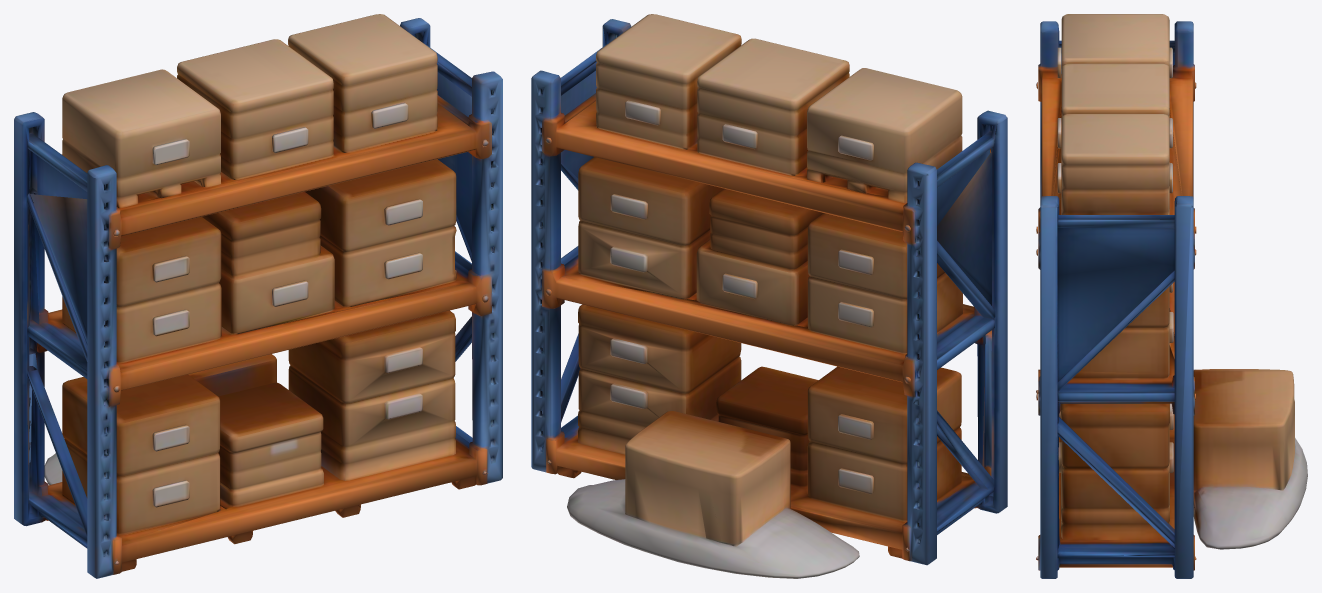
The model's file is warehouse_shelf_b7b87618_v4.glb.
3 renders of one model, left to right at view 1: azimuth 30°, elevation 25°; view 2: azimuth 150°, elevation 25°; view 3: azimuth 270°, elevation 25°, orthographic. The views are drawn at different scales.
Parts seen in each view (by area): view 1: material; view 2: material; view 3: material.
Boxes of the visible parts, bbox=[...] form: material: bbox=[14, 14, 502, 578]; material: bbox=[531, 14, 1007, 578]; material: bbox=[1036, 14, 1307, 578].
Size of the model in its own units: 1.88 by 1.9 by 1.17.
Materials: 1 (1 with a texture image).
